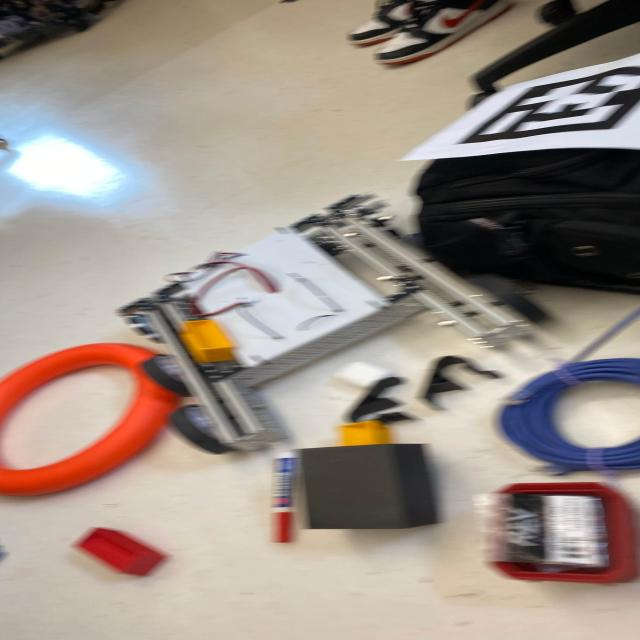red-specimen: (75, 528, 167, 577)
yellow-specimen: (180, 320, 236, 363), (338, 420, 394, 446)
